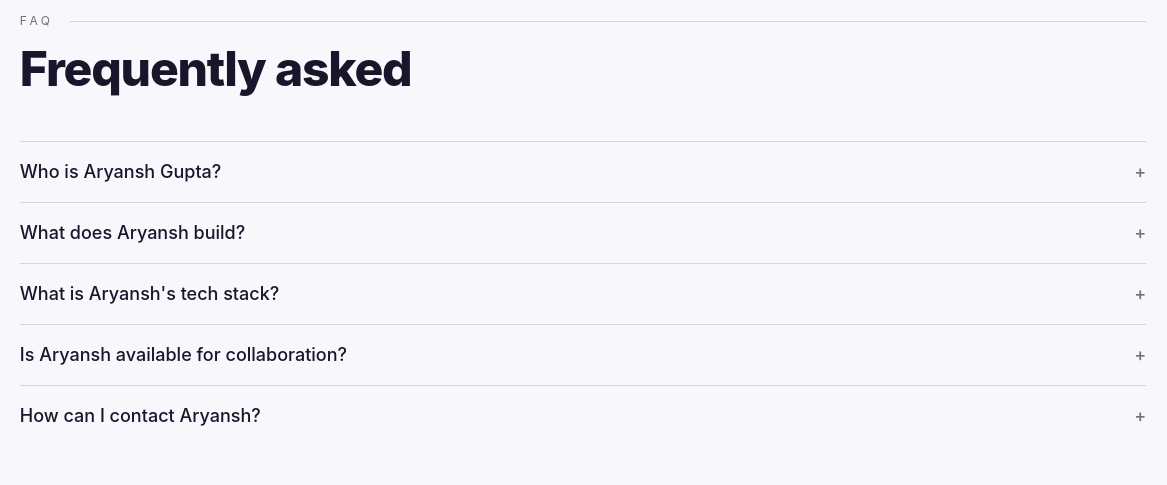
Test case: Faq › collapses the answer when the button is clicked again
The image size is (1167, 485).
Click the button "Who is Aryansh Gupta? +" at (121, 172), box [20,142,1146,202]
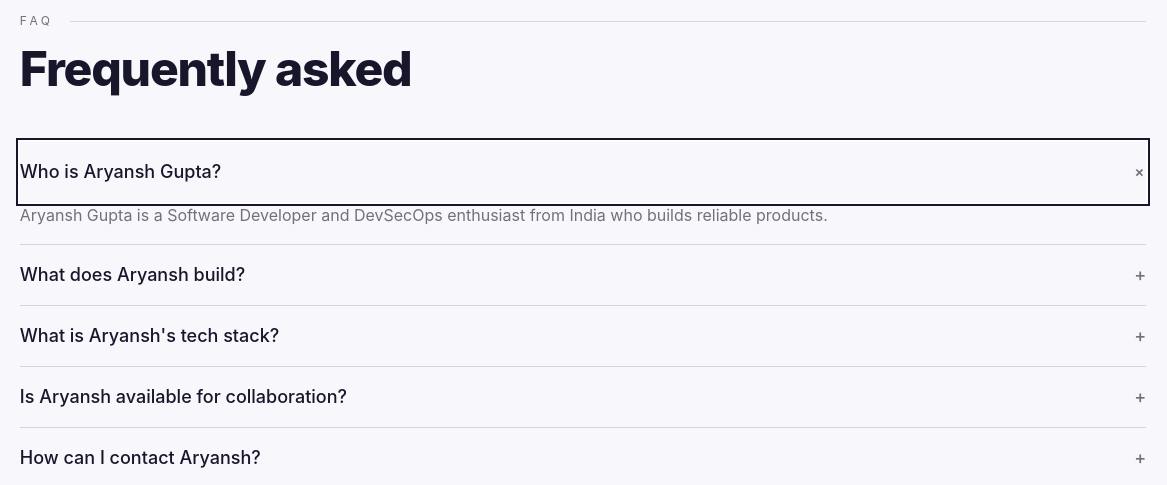
Expected: the button "Who is Aryansh Gupta? +" is expanded
Click the button "Who is Aryansh Gupta? +" at (121, 172), box [20,142,1146,202]
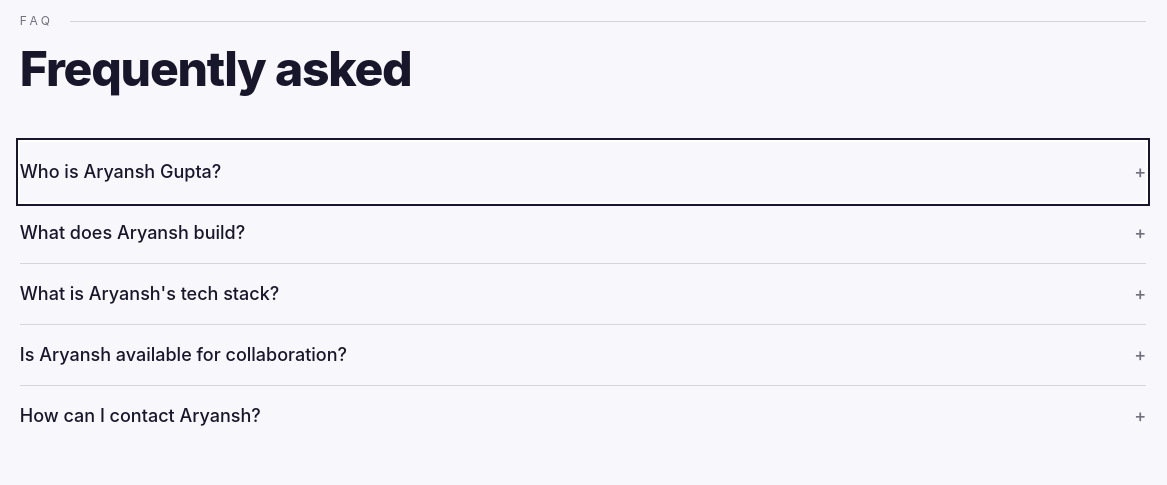
Expected: the button "Who is Aryansh Gupta? +" is collapsed, [20,142,1146,202]
